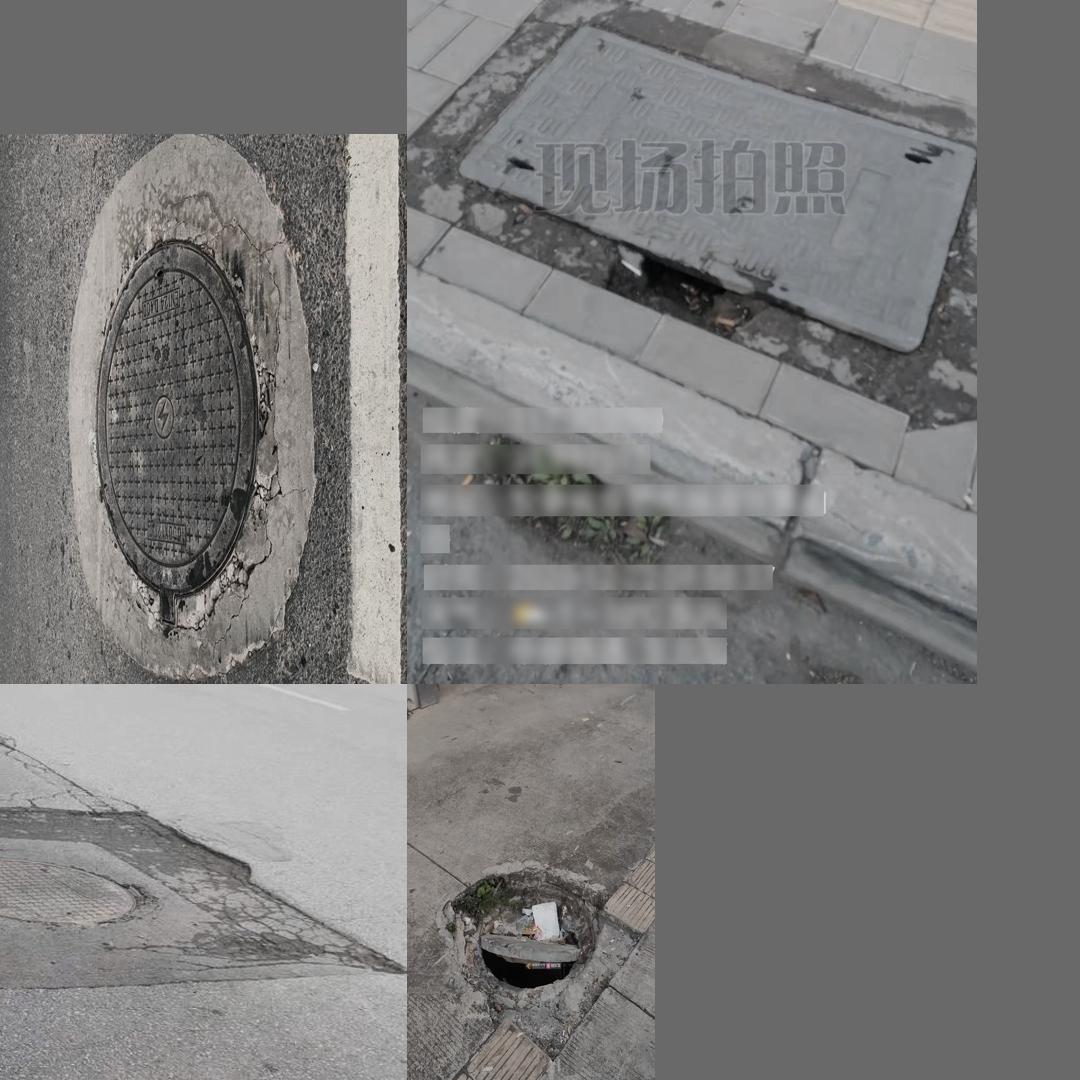circle: (414, 0, 977, 388), (69, 149, 313, 673), (0, 819, 302, 983), (428, 855, 631, 1047)
